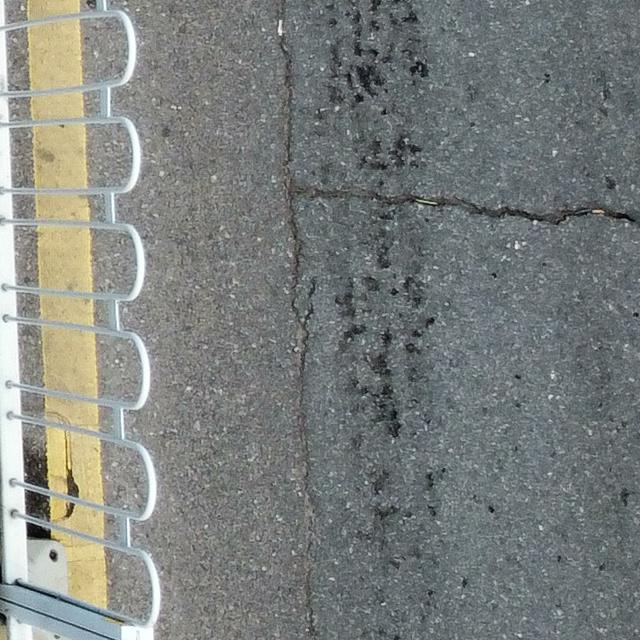LongitudinalCrack: (275, 2, 321, 640)
TransverseCrack: (299, 185, 640, 227)
